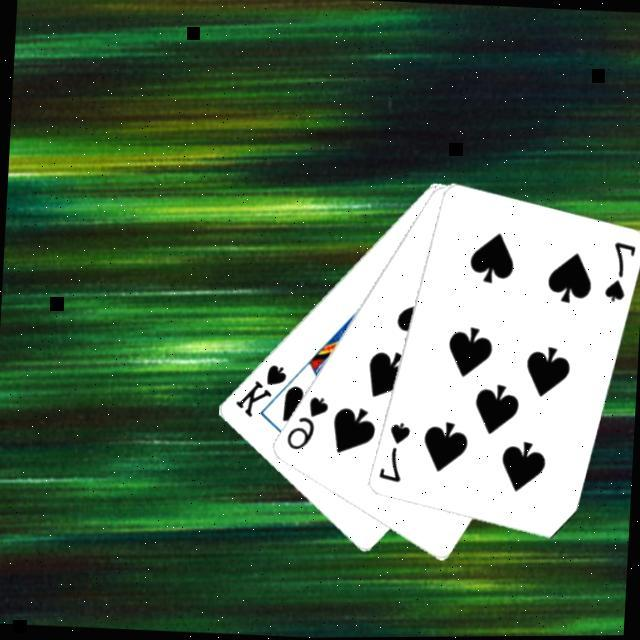7S: (375, 417, 413, 485), (602, 237, 640, 305)
9S: (283, 390, 333, 453)
KS: (232, 357, 291, 420)
